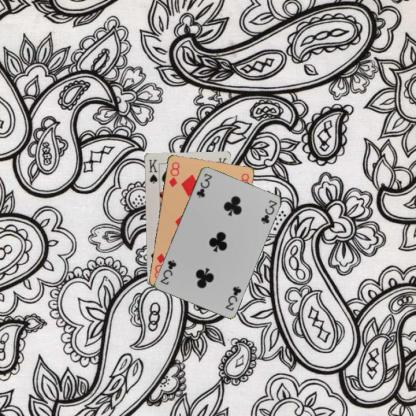3c: (222, 283, 242, 312), (194, 170, 213, 199)
8d: (166, 159, 181, 188)
Ks: (146, 157, 158, 184)
